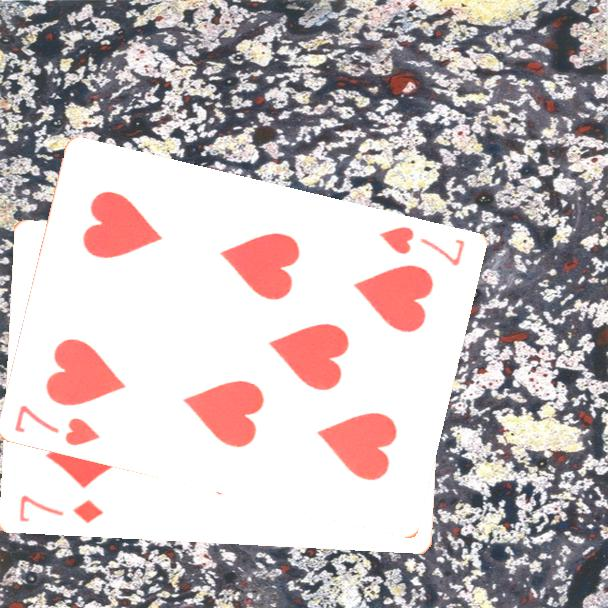d07: (15, 492, 106, 526)
h07: (11, 401, 104, 449), (377, 222, 469, 269)
